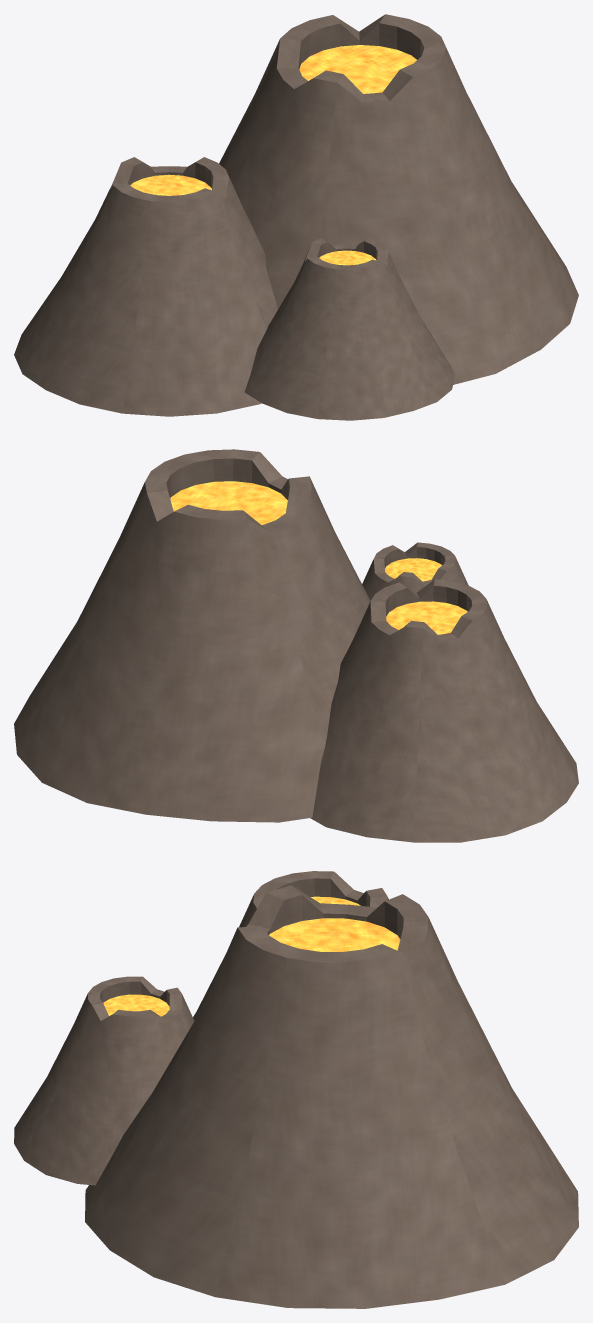
File: vulcano 3.fbx
3 views of the same model, one above another, from view 1: azimuth 30°, elevation 25°; view 2: azimuth 150°, elevation 25°; view 3: azimuth 270°, elevation 25° (orthographic). The views are drawn at different scales.
Visible parts, largest first — view 1: pCone15; view 2: pCone15; view 3: pCone15.
Part boxes in pixels (x1,y1,x2,y2): pCone15: (14, 14, 578, 420); pCone15: (14, 449, 578, 842); pCone15: (14, 871, 578, 1308).
Size of the model in its own units: 10.65 by 5.01 by 8.89.
